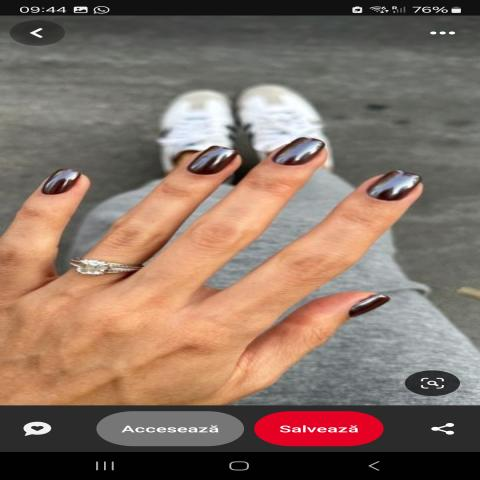hands: (22, 96, 424, 399)
